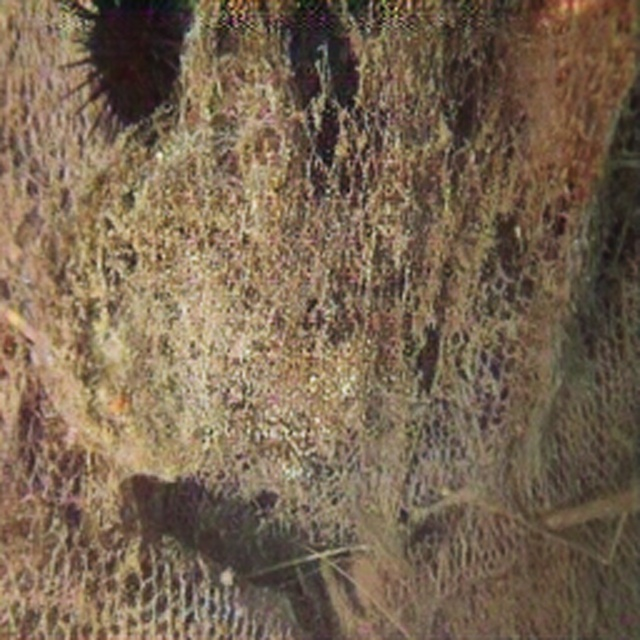mine: (268, 123, 640, 639), (0, 422, 302, 639)
